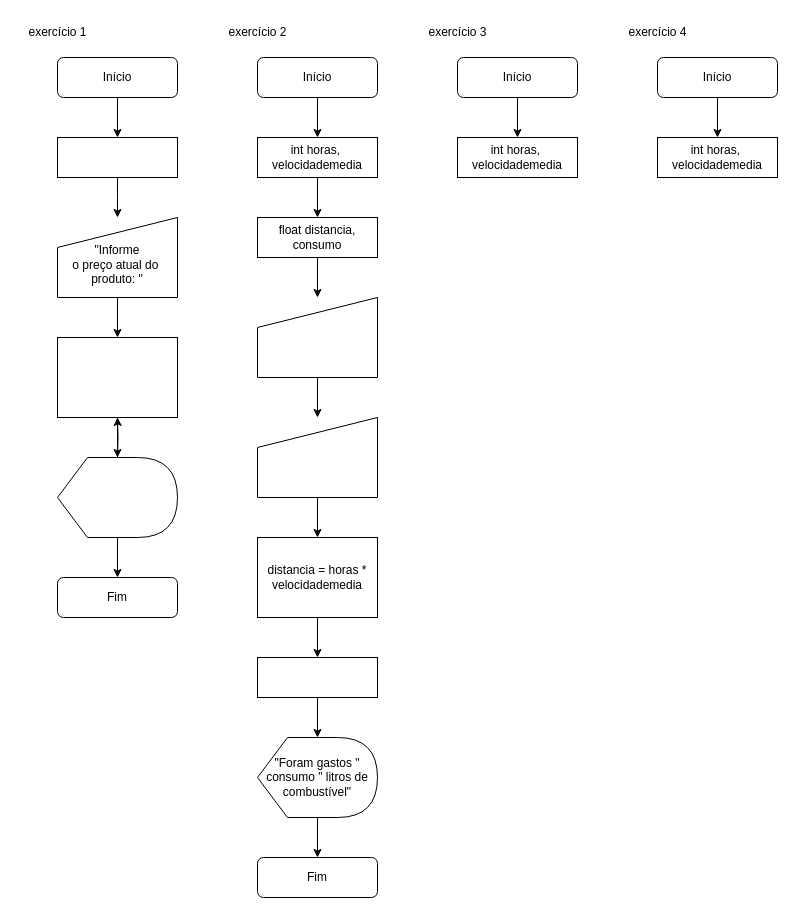
The diagram is 795 pixels wide and 915 high, and some of its shapes have lost their labels. The shapes that lost their labels are listed below. From the top down, each one's centre as x and y in pixels, then its label:
[117,157]: float preco_atual, preco_novo
[317,337]: "Informe o tempo gasto em horas: "
[117,377]: preco_novo = preco_atual - (preco_atual * 0,09)
[317,457]: "Informe a velocidade média: "
[117,497]: "Novo preço com desconto de 9%: " preco_novo
[317,677]: consumo = distancia / 12
